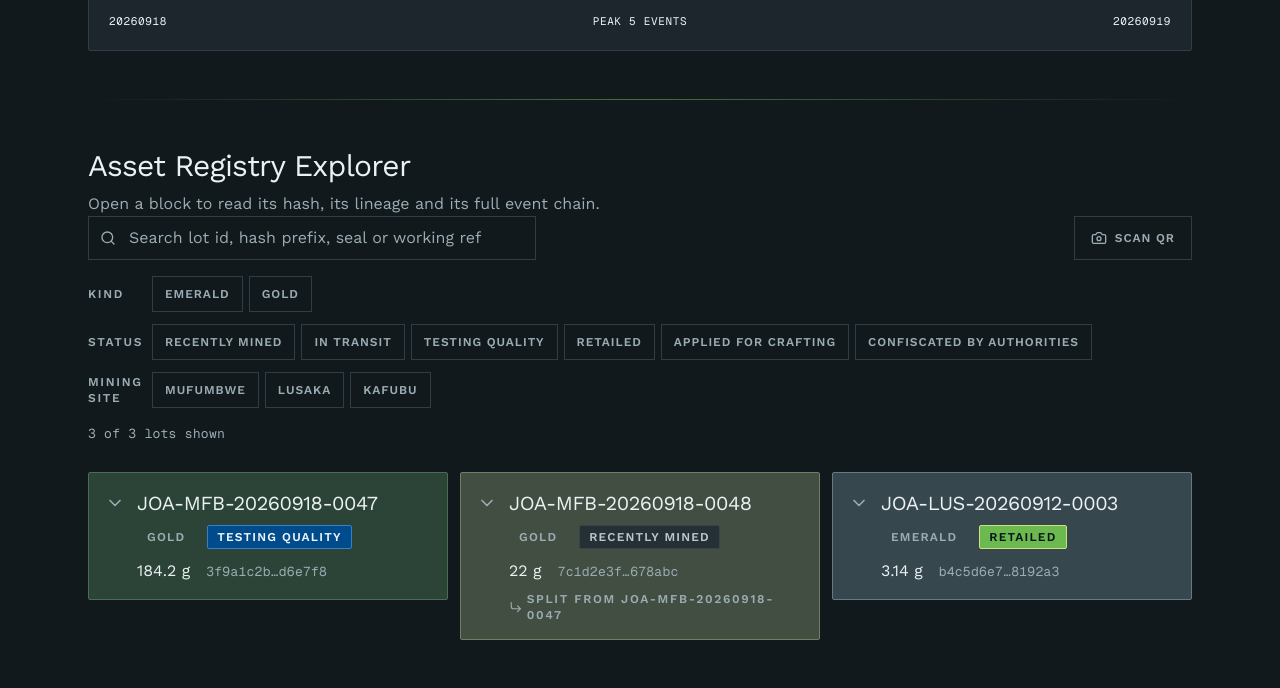
Test case: Library home page › clears the search and every filter from the empty state
The width and height of the screenshot is (1280, 688).
(page scrolled)
Expected: the text "JOA-MFB-20260918-0047" is shown, [137, 488, 377, 516]
// KFB has no seed lots, so the site chip narrows to nothing.
Click the button with test id "register.filter.site.KFB": (390, 390) [350, 372, 431, 408]
(page scrolled)
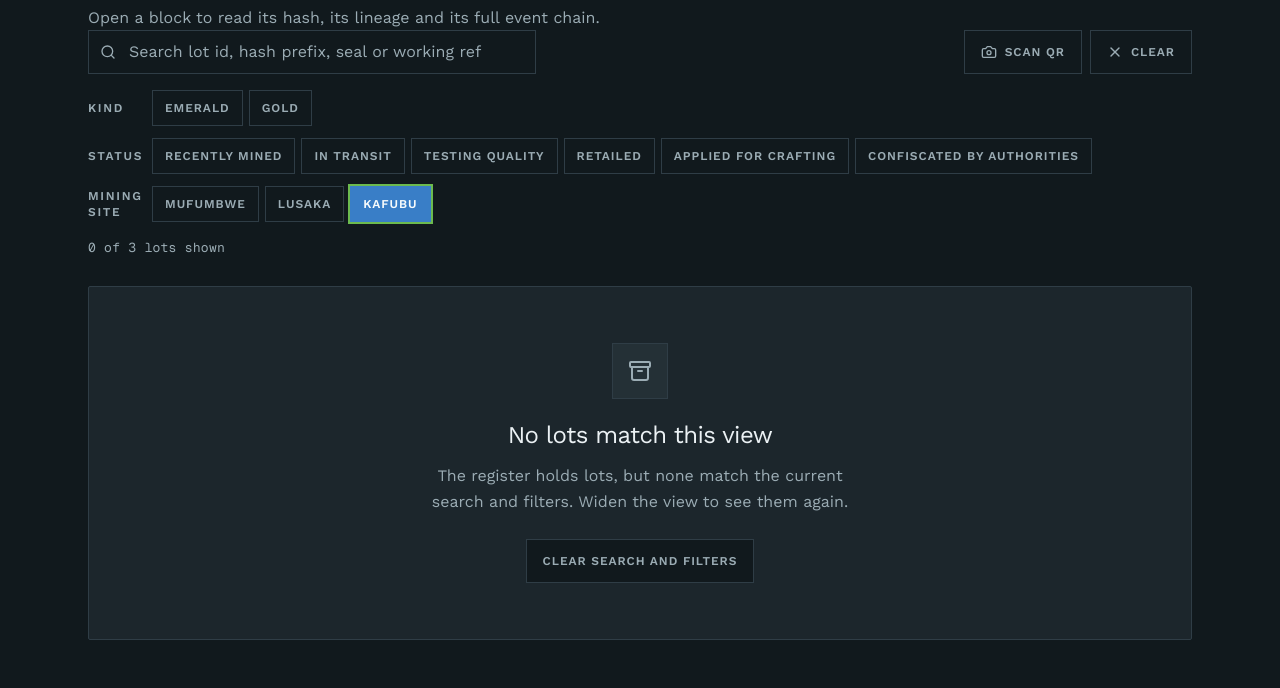
Expected: the element with test id "register.empty_state" is shown, [88, 286, 1192, 640]
Click the button "Clear search and filters": (640, 560) [526, 538, 754, 582]
(page scrolled)
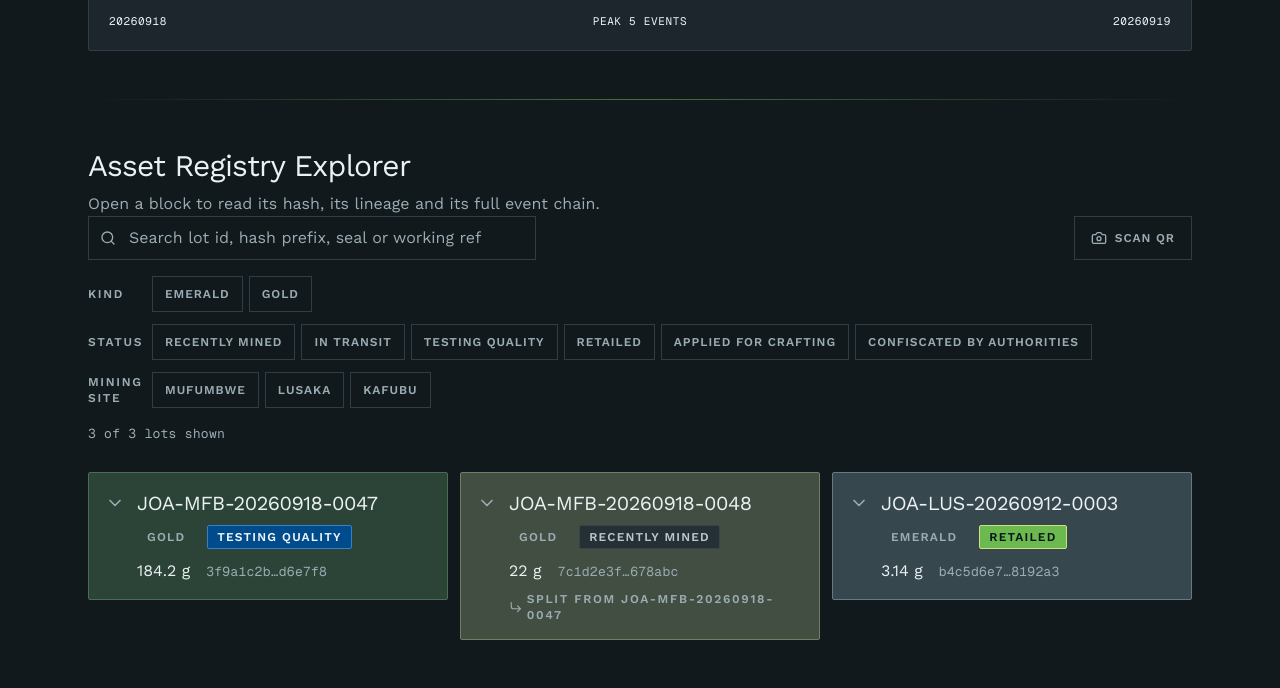
Expected: the text with test id "register.result_count" reads "3 of 3 lots shown", [88, 426, 225, 440]
Expected: the text "JOA-MFB-20260918-0047" is shown, [137, 488, 377, 516]
